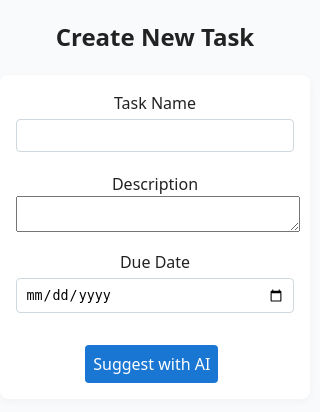
Scenario: TaskCreate › handles AI suggestion failure gracefully
In the field labelled "Task Name": (155, 135) [16,119,294,152], type "Fail Task"
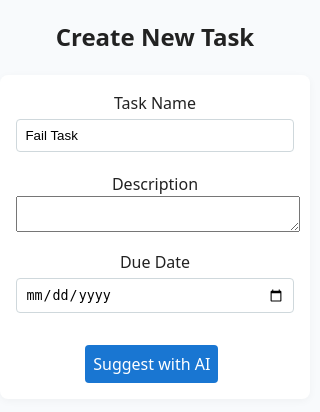
Click the button "Suggest with AI": (152, 364) [85,345,218,383]
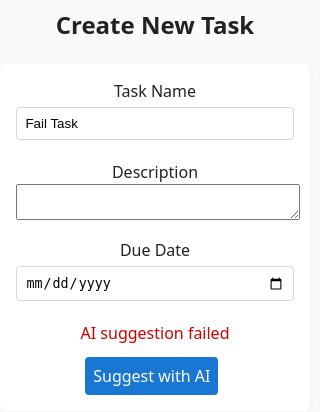
Check: the text "AI suggestion failed" is shown, box [80,322,230,344]
